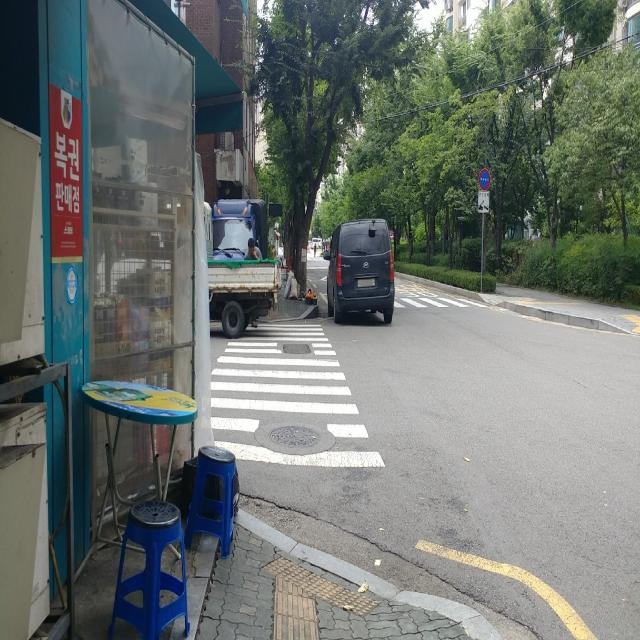횡단보도: (210, 326, 386, 470), (386, 285, 476, 311)
